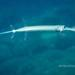Fistularia commersonii: (0, 17, 75, 41)
